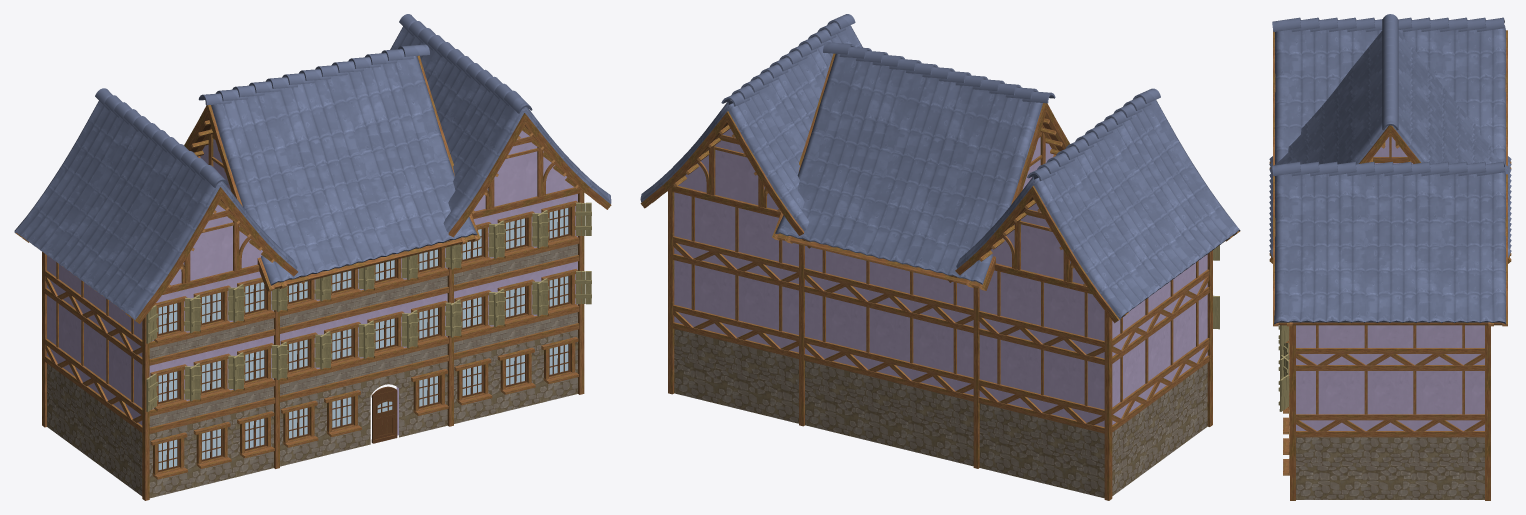
Rendered from tech_hq.glb.
The picture shows the model from 3 angles, left to right: view 1: azimuth 30°, elevation 25°; view 2: azimuth 150°, elevation 25°; view 3: azimuth 270°, elevation 25°; orthographic projection. The views are drawn at different scales.
Parts seen in each view (by area): view 1: Roof_RoundTiles_6x8, Wall_UnevenBrick_Window_Wide_Flat, Window_Wide_Flat1, Wall_UnevenBrick_Straight, WindowShutters_Wide_Flat_Open, Wall_Plaster_Window_Wide_Flat; view 2: Roof_RoundTiles_6x8, Wall_UnevenBrick_Window_Wide_Flat, Wall_UnevenBrick_Straight, Window_Wide_Flat1; view 3: Roof_RoundTiles_6x8, Wall_UnevenBrick_Window_Wide_Flat, Wall_UnevenBrick_Straight, Window_Wide_Flat1, WindowShutters_Wide_Flat_Open.
Part boxes in pixels (x1,y1,x2,y2): Roof_RoundTiles_6x8: (14, 14, 611, 319); Wall_UnevenBrick_Window_Wide_Flat: (14, 55, 611, 498); Window_Wide_Flat1: (42, 120, 584, 500); Wall_UnevenBrick_Straight: (47, 130, 573, 496); WindowShutters_Wide_Flat_Open: (146, 202, 591, 411); Wall_Plaster_Window_Wide_Flat: (149, 244, 577, 427); Roof_RoundTiles_6x8: (640, 14, 1240, 318); Wall_UnevenBrick_Window_Wide_Flat: (640, 53, 1240, 426); Wall_UnevenBrick_Straight: (674, 129, 1207, 498); Window_Wide_Flat1: (668, 118, 1212, 500); Roof_RoundTiles_6x8: (1269, 14, 1511, 324); Wall_UnevenBrick_Window_Wide_Flat: (1269, 30, 1511, 431); Wall_UnevenBrick_Straight: (1296, 137, 1484, 499); Window_Wide_Flat1: (1283, 135, 1490, 500); WindowShutters_Wide_Flat_Open: (1278, 325, 1289, 411).
Bounding box in the file's own units: 22.25 × 15 × 9.95.
7 materials, 6 textured.
